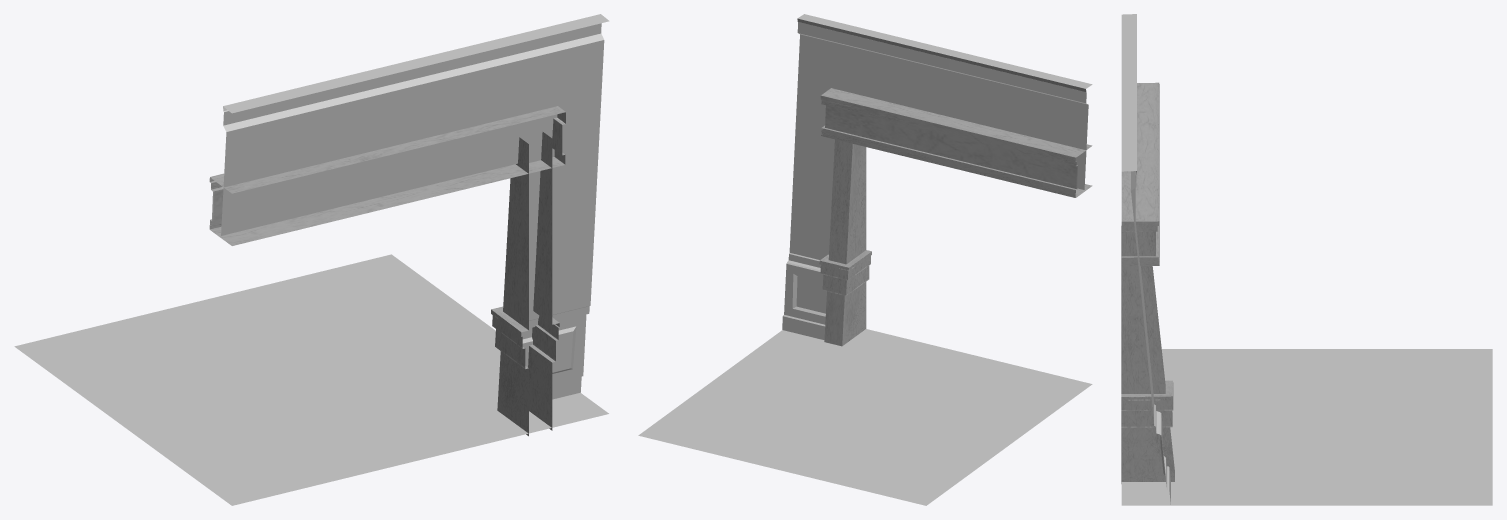
Rendered from interiorRoom_DoorRight.fbx.
3 views of the same model, side by side, from view 1: azimuth 30°, elevation 25°; view 2: azimuth 150°, elevation 25°; view 3: azimuth 270°, elevation 25° (orthographic). The views are drawn at different scales.
Parts seen in each view (by area): view 1: interiorRoom_DoorRight; view 2: interiorRoom_DoorRight; view 3: interiorRoom_DoorRight.
Boxes of the visible parts, <box> form: interiorRoom_DoorRight: <box>14,14,609,505</box>; interiorRoom_DoorRight: <box>638,14,1092,505</box>; interiorRoom_DoorRight: <box>1121,14,1492,505</box>.
Bounding box in the file's own units: 3 × 3.01 × 3.
